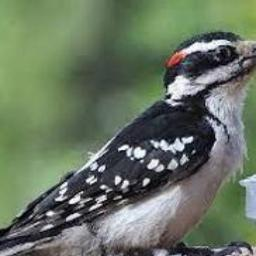Woodpecker: (0, 31, 256, 256)
